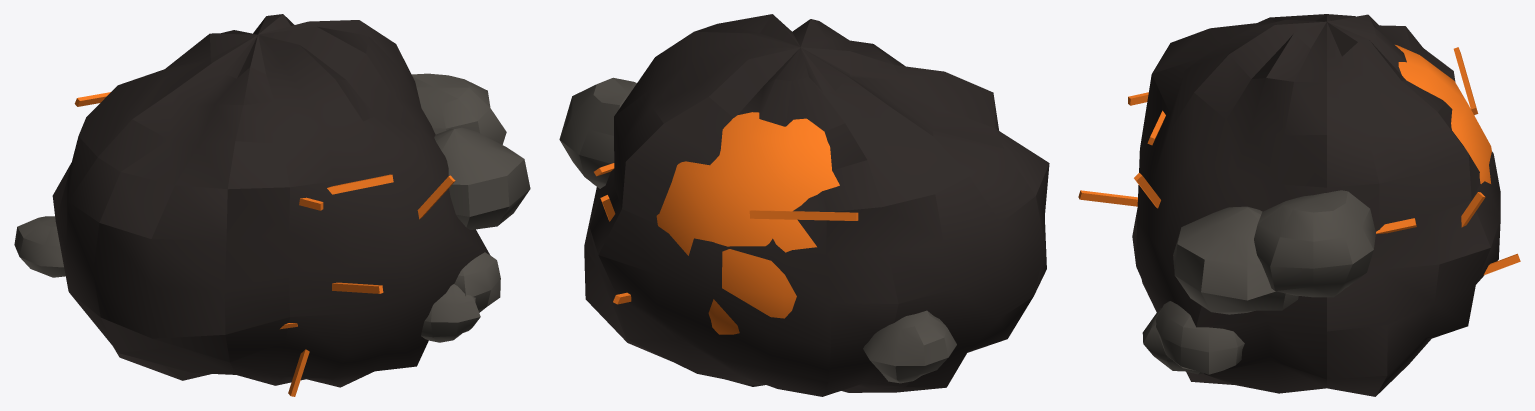
The model's file is riesenmeteor.obj.
3 renders of one model, left to right at view 1: azimuth 30°, elevation 25°; view 2: azimuth 150°, elevation 25°; view 3: azimuth 270°, elevation 25°, orthographic. The views are drawn at different scales.
Visible parts, largest first — view 1: riesenmeteor_Koerper; view 2: riesenmeteor_Koerper; view 3: riesenmeteor_Koerper.
Part boxes in pixels (bbox=[...]): riesenmeteor_Koerper: bbox=[14, 14, 530, 396]; riesenmeteor_Koerper: bbox=[559, 14, 1049, 396]; riesenmeteor_Koerper: bbox=[1078, 14, 1520, 396].
Size of the model in its own units: 7.73 by 5.94 by 6.77.
